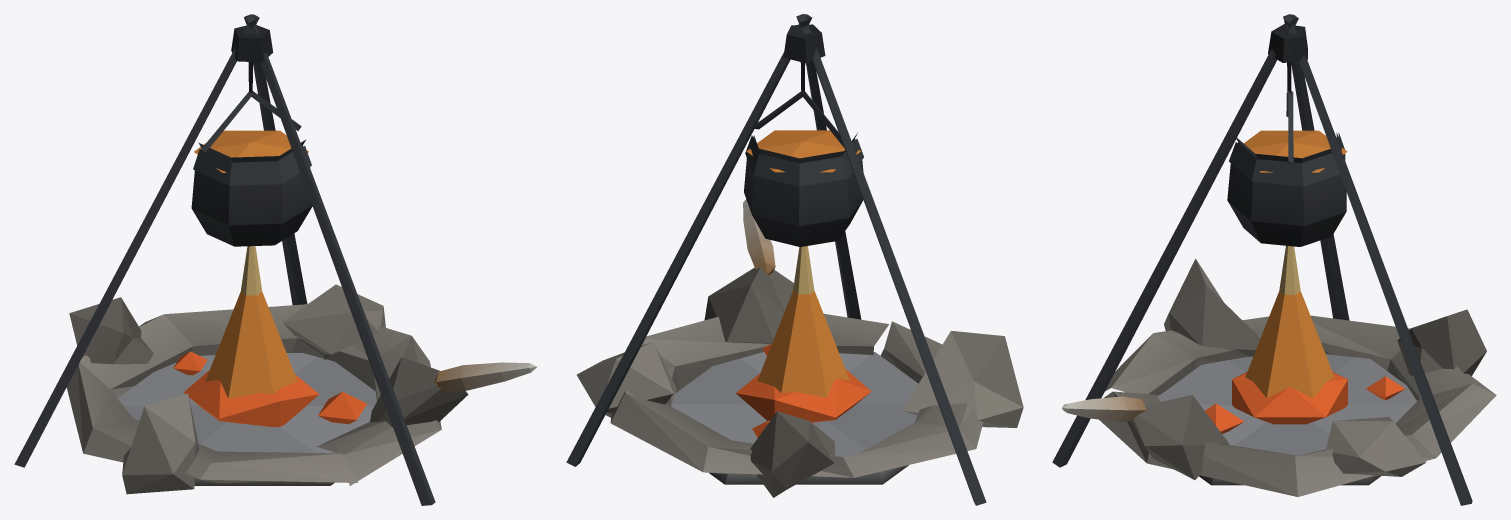
File: cooking-hearth.glb
The picture shows the model from 3 angles, left to right: view 1: azimuth 30°, elevation 25°; view 2: azimuth 150°, elevation 25°; view 3: azimuth 270°, elevation 25°; orthographic projection.
Visible parts, largest first — view 1: cooking_hearth; view 2: cooking_hearth; view 3: cooking_hearth.
Boxes of the visible parts, left/top/right/bottom form: cooking_hearth: left=14, top=14, right=537, bottom=505; cooking_hearth: left=566, top=14, right=1023, bottom=505; cooking_hearth: left=1052, top=14, right=1496, bottom=505.
Size of the model in its own units: 1.26 by 1.29 by 1.24.
